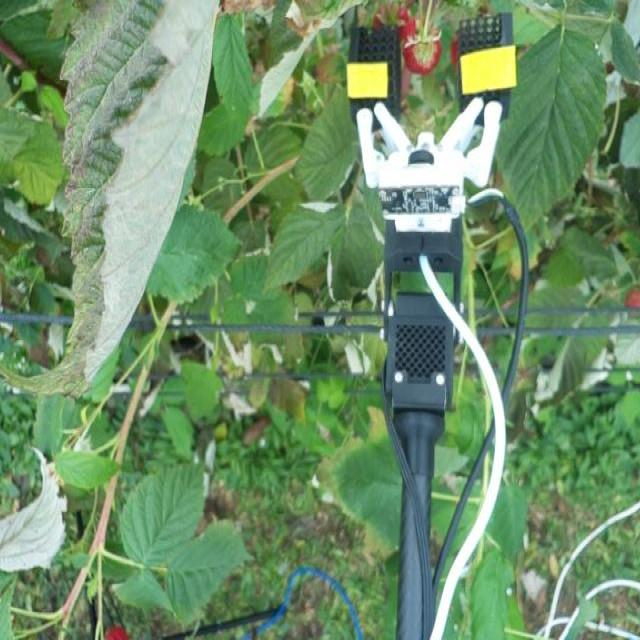Riped berries: (398, 11, 443, 76)
